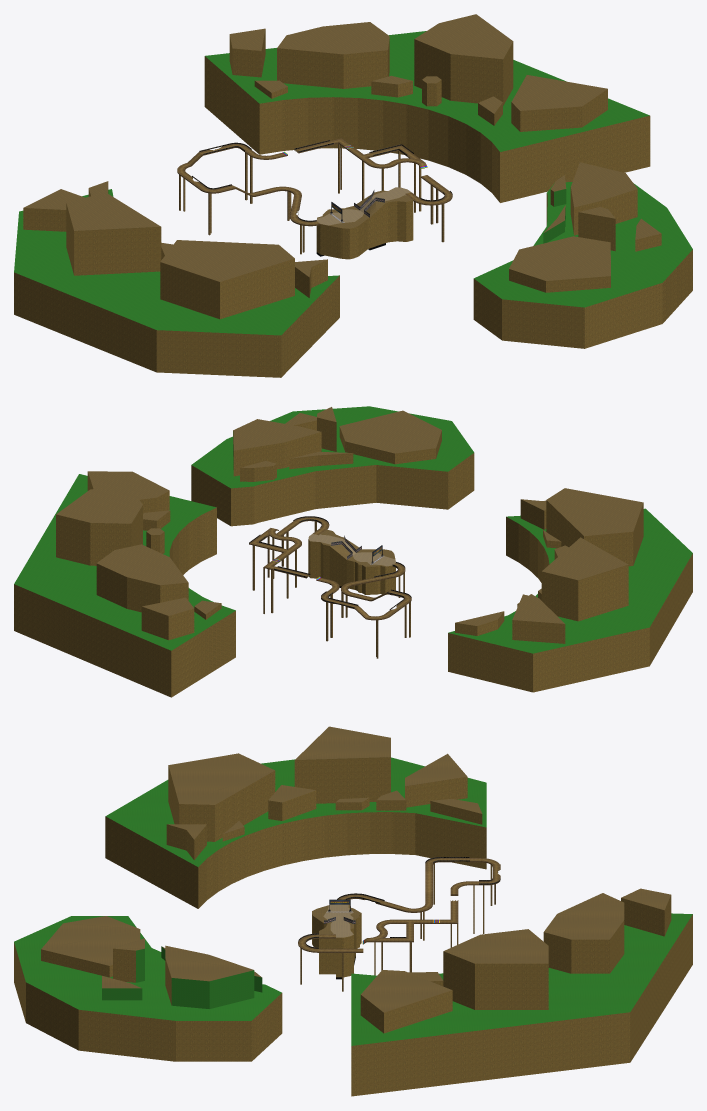
3 renders of one model, top to bottom at view 1: azimuth 30°, elevation 25°; view 2: azimuth 150°, elevation 25°; view 3: azimuth 270°, elevation 25°, orthographic. The views are drawn at different scales.
Parts seen in each view (by area): view 1: TitanicBridge-SKP--Material7.001, TitanicBridge-SKP--Material8.001, TitanicBridge-SKP--Material1.001, TitanicBridge-SKP--Material2.001, TitanicBridge-SKP--Material3.001, TitanicBridge-SKP--Material10.001; view 2: TitanicBridge-SKP--Material7.001, TitanicBridge-SKP--Material8.001, TitanicBridge-SKP--Material1.001, TitanicBridge-SKP--Material2.001, TitanicBridge-SKP--Material3.001, TitanicBridge-SKP--Material10.001; view 3: TitanicBridge-SKP--Material7.001, TitanicBridge-SKP--Material8.001, TitanicBridge-SKP--Material1.001, TitanicBridge-SKP--Material2.001, TitanicBridge-SKP--Material3.001.
Part boxes in pixels (x1,y1,x2,y2): TitanicBridge-SKP--Material7.001: [14, 29, 692, 377]; TitanicBridge-SKP--Material8.001: [14, 31, 692, 335]; TitanicBridge-SKP--Material1.001: [23, 14, 661, 281]; TitanicBridge-SKP--Material2.001: [177, 138, 452, 254]; TitanicBridge-SKP--Material3.001: [316, 187, 410, 225]; TitanicBridge-SKP--Material10.001: [192, 140, 452, 221]; TitanicBridge-SKP--Material7.001: [14, 417, 692, 697]; TitanicBridge-SKP--Material8.001: [14, 406, 692, 653]; TitanicBridge-SKP--Material1.001: [56, 407, 643, 625]; TitanicBridge-SKP--Material2.001: [249, 517, 411, 658]; TitanicBridge-SKP--Material3.001: [308, 534, 395, 566]; TitanicBridge-SKP--Material10.001: [249, 516, 411, 609]; TitanicBridge-SKP--Material7.001: [14, 757, 692, 1096]; TitanicBridge-SKP--Material8.001: [14, 757, 692, 1045]; TitanicBridge-SKP--Material1.001: [41, 726, 670, 1012]; TitanicBridge-SKP--Material2.001: [298, 858, 500, 991]; TitanicBridge-SKP--Material3.001: [323, 904, 353, 937].
Bounding box in the file's own units: 285686 × 43319 × 269814.
13 materials, 13 textured.
